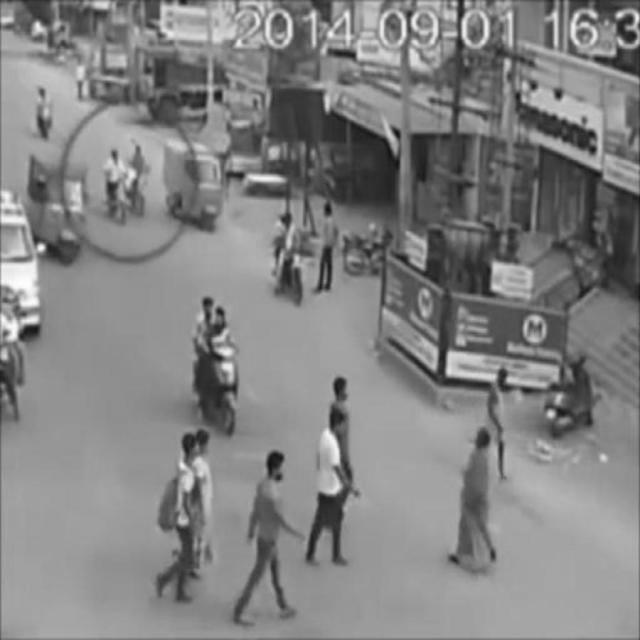accident: (106, 145, 147, 233)
person: (236, 452, 297, 620), (159, 429, 197, 609), (306, 415, 348, 566)
vehicle: (193, 302, 249, 439), (27, 155, 89, 269), (166, 143, 222, 231)
